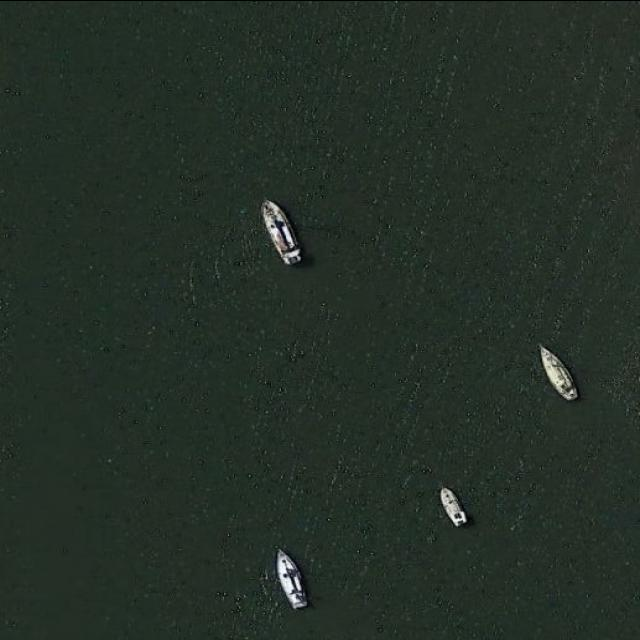ship: (256, 196, 304, 264), (534, 340, 578, 400), (272, 547, 310, 608), (434, 482, 468, 526)
